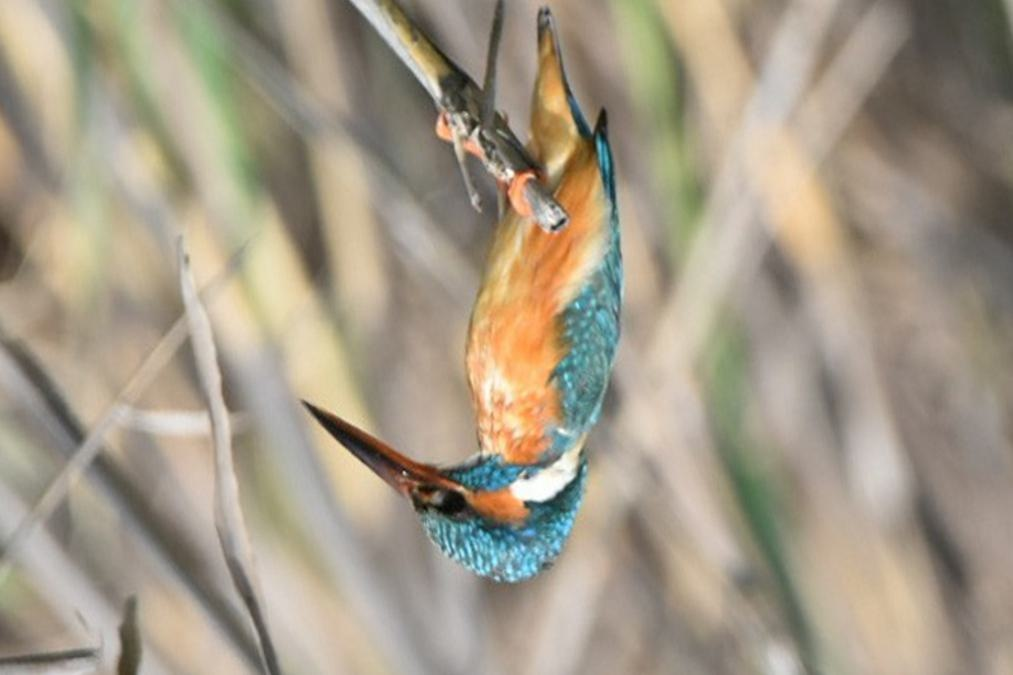kingfisher: (295, 71, 649, 590)
